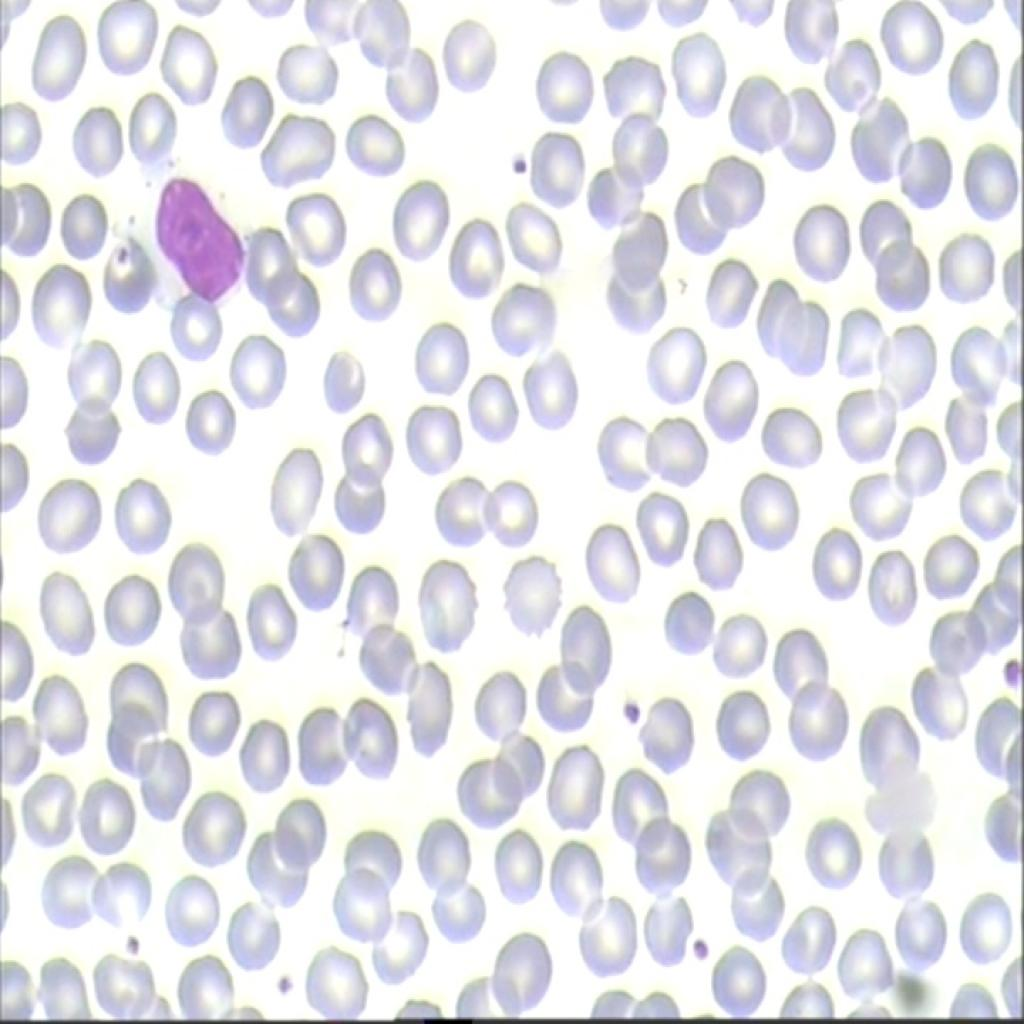Monosit: (121, 153, 253, 307)
Platelet: (610, 679, 647, 741), (676, 918, 714, 964), (109, 919, 148, 960), (997, 636, 1023, 688), (505, 144, 532, 188), (264, 971, 288, 1001)
